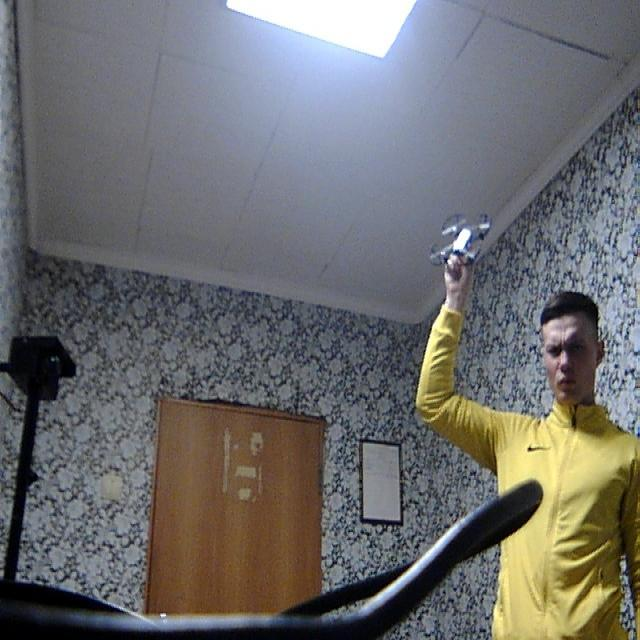drone: (424, 211, 492, 276)
